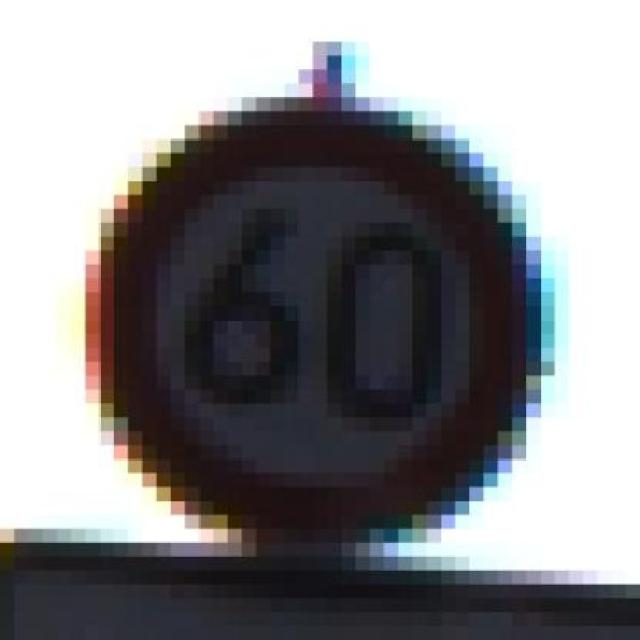forb_speed_over_60: (104, 109, 521, 526)
